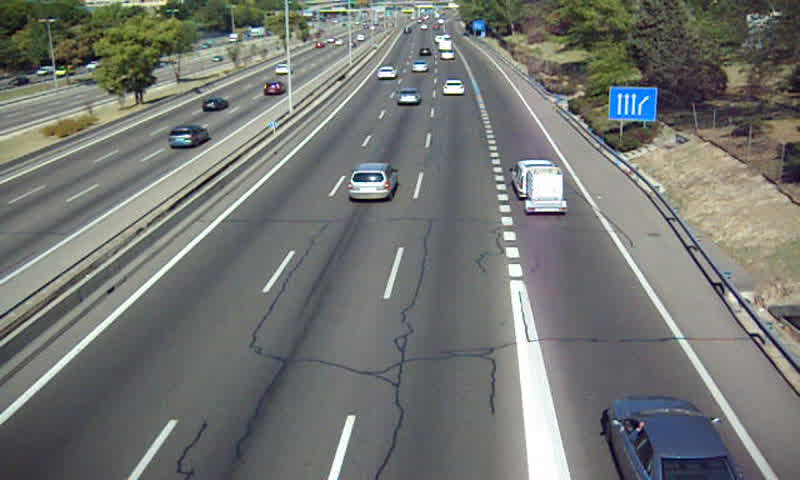car: (606, 398, 741, 480), (348, 164, 396, 201), (395, 89, 423, 107), (443, 80, 465, 97), (378, 65, 397, 80), (410, 60, 429, 74), (441, 50, 456, 61)
van: (511, 160, 560, 199)
